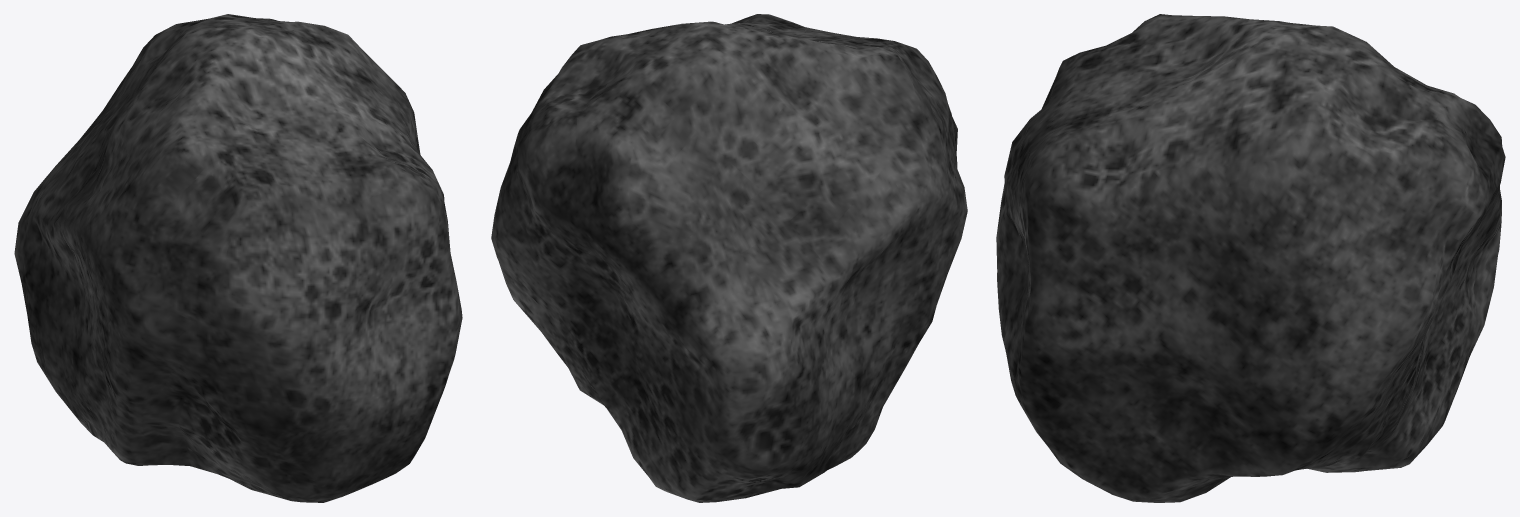
Rendered from Asteroid_3.fbx.
3 renders of one model, left to right at view 1: azimuth 30°, elevation 25°; view 2: azimuth 150°, elevation 25°; view 3: azimuth 270°, elevation 25°, orthographic. The views are drawn at different scales.
Visible parts, largest first — view 1: Asteroid_no_3; view 2: Asteroid_no_3; view 3: Asteroid_no_3.
Part boxes in pixels (x1,y1,x2,y2): Asteroid_no_3: (14, 14, 462, 502); Asteroid_no_3: (491, 14, 967, 502); Asteroid_no_3: (996, 14, 1505, 502).
Bounding box in the file's own units: 664 × 720 × 738.
1 material, 1 textured.
